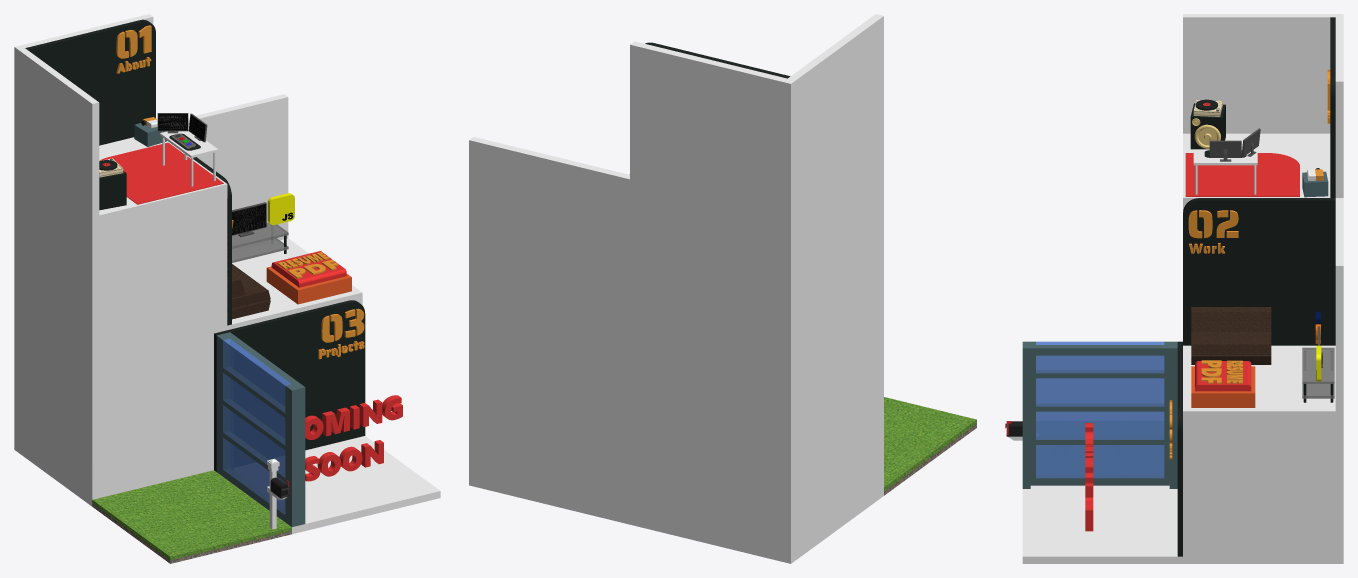
The model's file is maxtower.dae.
3 views of the same model, side by side, from view 1: azimuth 30°, elevation 25°; view 2: azimuth 150°, elevation 25°; view 3: azimuth 270°, elevation 25° (orthographic). The views are drawn at different scales.
Parts seen in each view (by area): view 1: group_10, group_75 (×7), group_7, group_4, group_6, group_72, group_35, group_74 (×3), group_61, group_69 (×2), group_62, group_41 (+10 smaller); view 2: group_10, group_7; view 3: group_10, group_75 (×7), group_5, group_74 (×2), group_35, group_72, group_57, group_56, group_64 (×2), group_61, group_4, group_62 (+8 smaller).
Boxes of the visible parts, left/top/right/bottom form: group_10: left=14, top=14, right=440, bottom=534; group_75 (×7): left=223, top=338, right=291, bottom=514; group_7: left=92, top=470, right=291, bottom=560; group_4: left=214, top=300, right=365, bottom=471; group_6: left=25, top=19, right=155, bottom=145; group_72: left=216, top=332, right=305, bottom=526; group_35: left=100, top=142, right=223, bottom=204; group_74 (×3): left=220, top=336, right=294, bottom=523; group_61: left=266, top=266, right=351, bottom=304; group_69 (×2): left=232, top=238, right=288, bottom=262; group_62: left=271, top=251, right=346, bottom=287; group_41: left=99, top=171, right=126, bottom=210; group_10: left=469, top=14, right=883, bottom=563; group_7: left=884, top=397, right=976, bottom=491; group_10: left=1022, top=14, right=1343, bottom=563; group_75 (×7): left=1036, top=341, right=1164, bottom=478; group_5: left=1183, top=198, right=1335, bottom=345; group_74 (×2): left=1030, top=341, right=1169, bottom=485; group_35: left=1185, top=153, right=1299, bottom=196; group_72: left=1022, top=341, right=1177, bottom=488; group_57: left=1191, top=307, right=1271, bottom=331; group_56: left=1191, top=331, right=1271, bottom=354; group_64 (×2): left=1302, top=347, right=1334, bottom=383; group_61: left=1191, top=366, right=1255, bottom=407; group_4: left=1177, top=341, right=1182, bottom=556; group_62: left=1195, top=361, right=1251, bottom=391.
Size of the model in its own units: 240 by 253 by 342.
26 materials, 6 textured.
